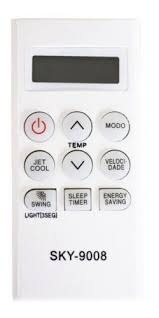remote control: (11, 20, 143, 303)
